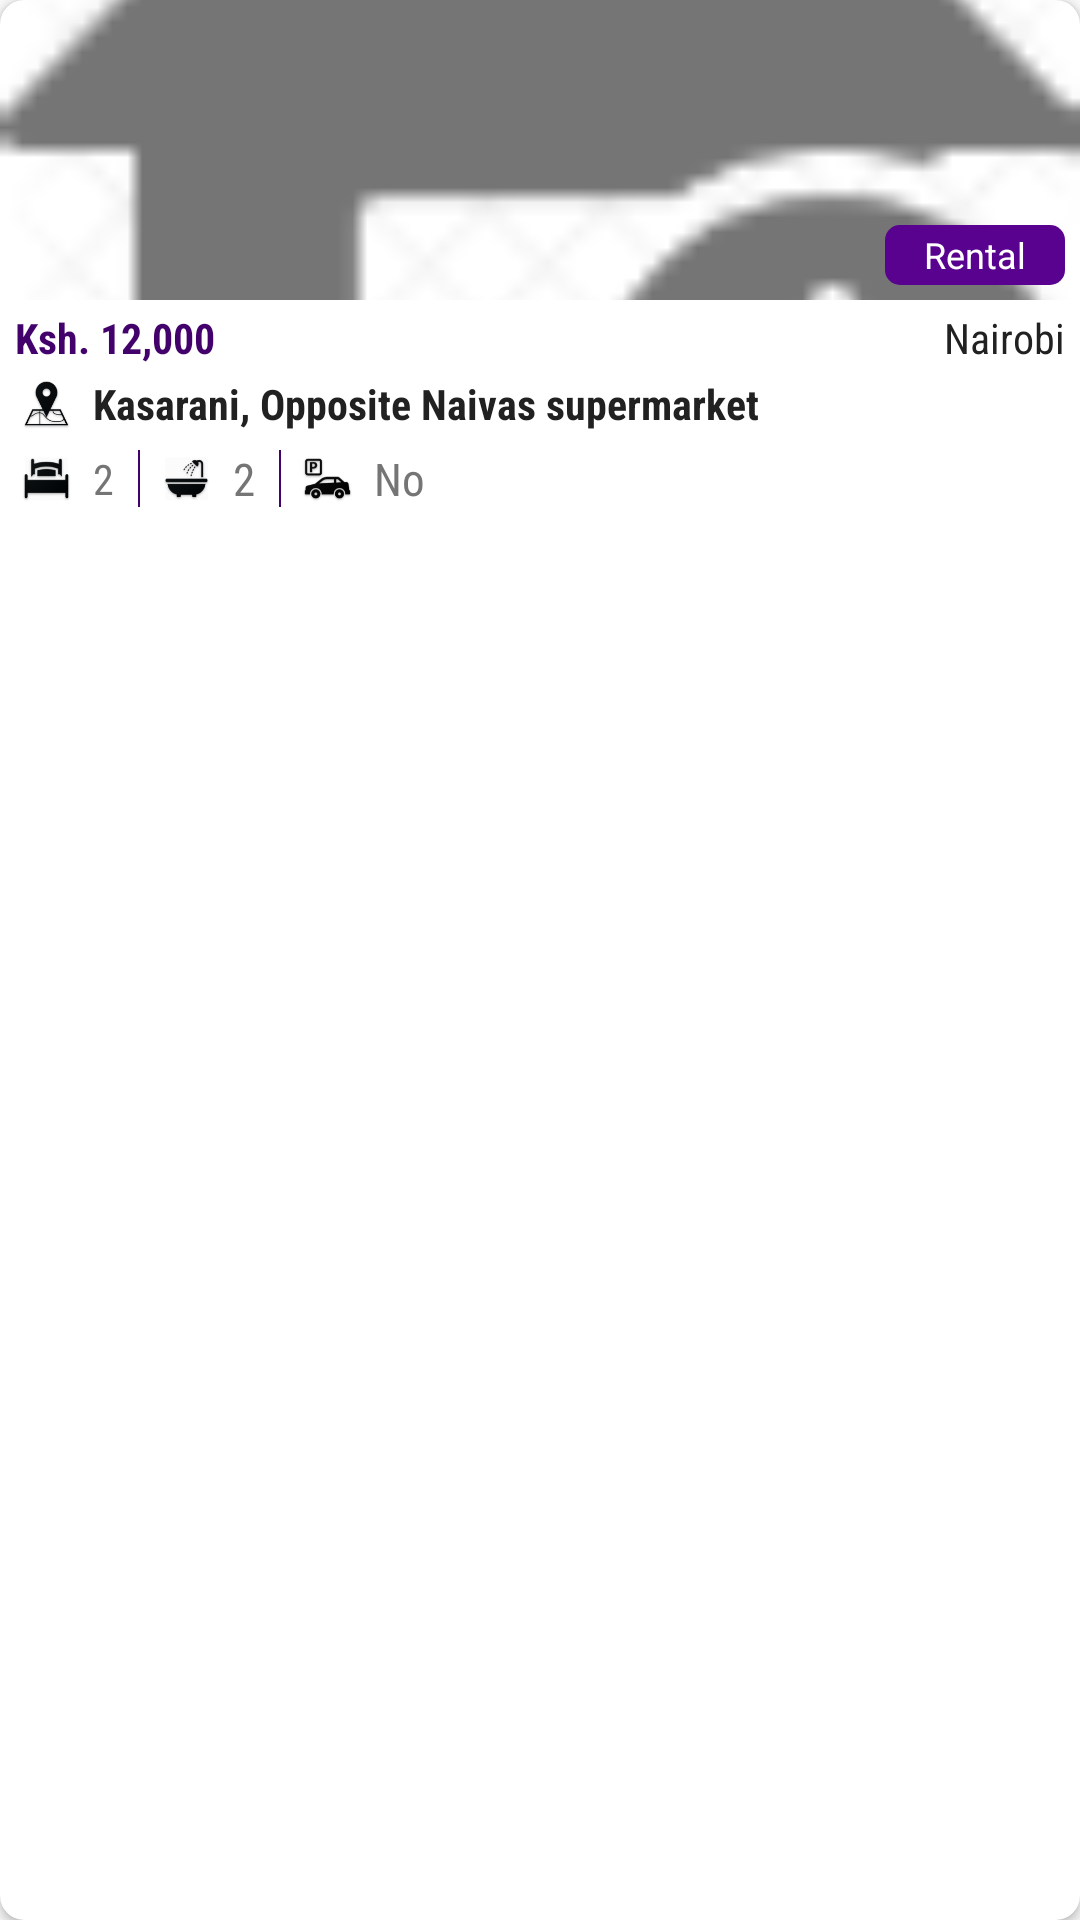

Icons on this 1080 x 1920 Android screen, each with its box as BBox(x1, y1, x2, y2):
bed: BBox(24, 458, 69, 500)
location: BBox(24, 381, 69, 427)
parking: BBox(304, 458, 351, 500)
shower: BBox(165, 460, 208, 499)
